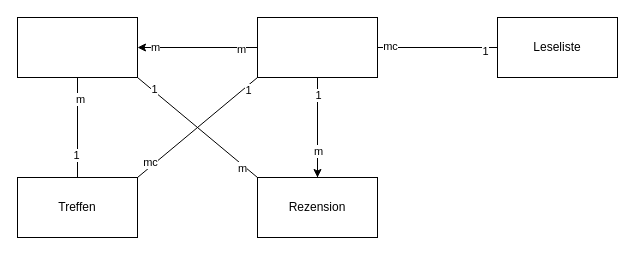
Image size: 635x255. Some labels were removed from this diagram. Here are the shapes that lost their labels. From the top down, the centre of each, then its label:
At point 77,47: "Mitglied".
At point 317,47: "Buch".
